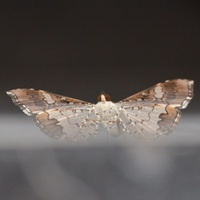insect: (6, 79, 193, 142)
